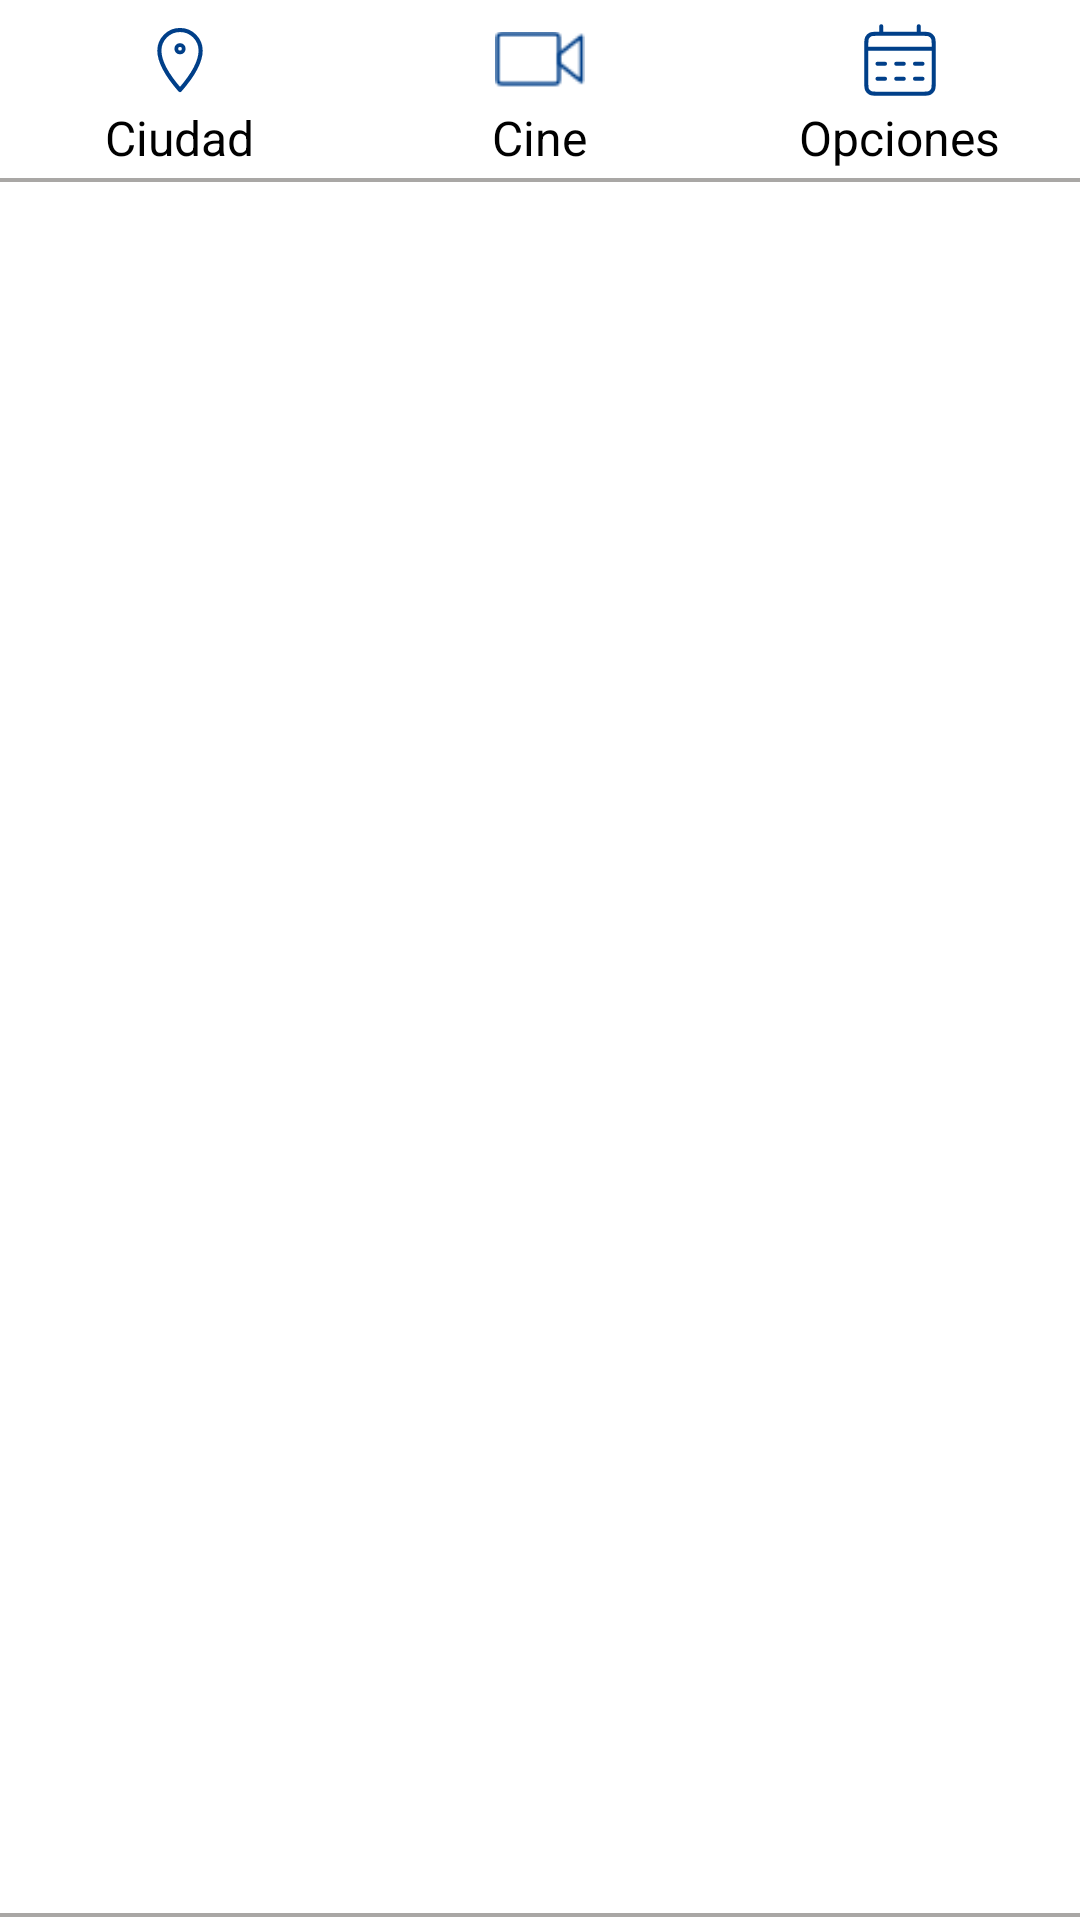

Icons on this 1080×1920 Android screen, each with the point to tap as point (x, y):
calendar: point (900, 60)
location: point (180, 60)
